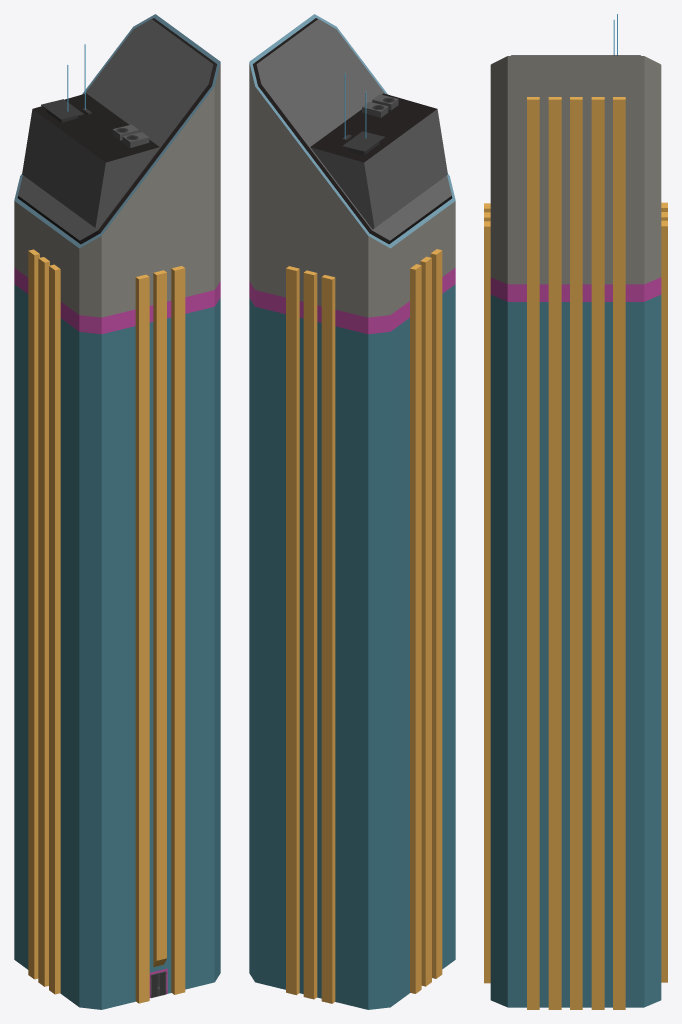
File: building l 8.FBX
3 views of the same model, side by side, from view 1: azimuth 30°, elevation 25°; view 2: azimuth 150°, elevation 25°; view 3: azimuth 270°, elevation 25° (orthographic). The views are drawn at different scales.
Visible parts, largest first — view 1: Object40; view 2: Object40; view 3: Object40.
Part boxes in pixels (x1,y1,x2,y2): Object40: [14, 14, 220, 1009]; Object40: [249, 14, 455, 1009]; Object40: [484, 14, 667, 1009].
Bounding box in the file's own units: 21.56 × 123 × 21.56.
1 material, 1 textured.
